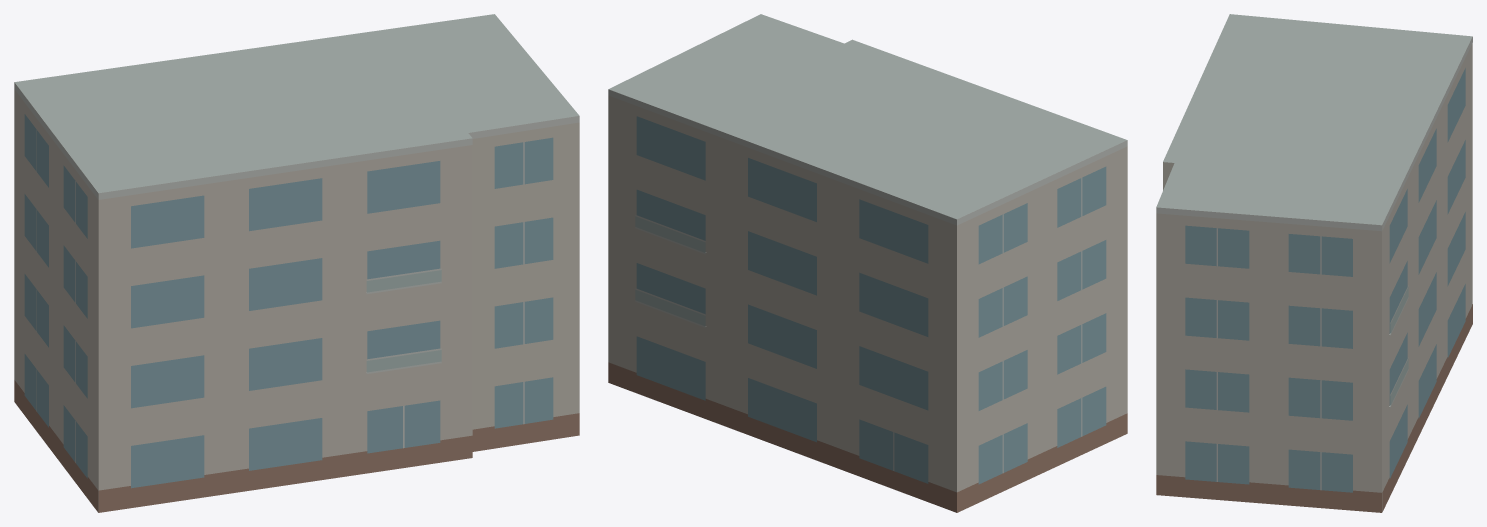
The model's file is survey-upis-32527672.glb.
3 renders of one model, left to right at view 1: azimuth 30°, elevation 25°; view 2: azimuth 150°, elevation 25°; view 3: azimuth 270°, elevation 25°, orthographic. The views are drawn at different scales.
Parts seen in each view (by area): view 1: survey-upis-32527672.tmp; view 2: survey-upis-32527672.tmp; view 3: survey-upis-32527672.tmp.
Boxes of the visible parts, <box> form: survey-upis-32527672.tmp: <box>14,14,579,512</box>; survey-upis-32527672.tmp: <box>608,14,1127,512</box>; survey-upis-32527672.tmp: <box>1156,14,1472,512</box>.
Size of the model in its own units: 18.44 by 11.7 by 11.68.
